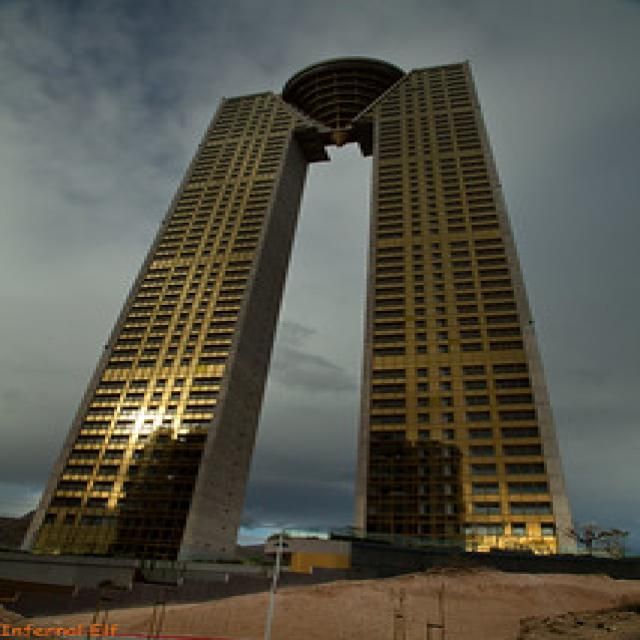building: (15, 44, 592, 570)
